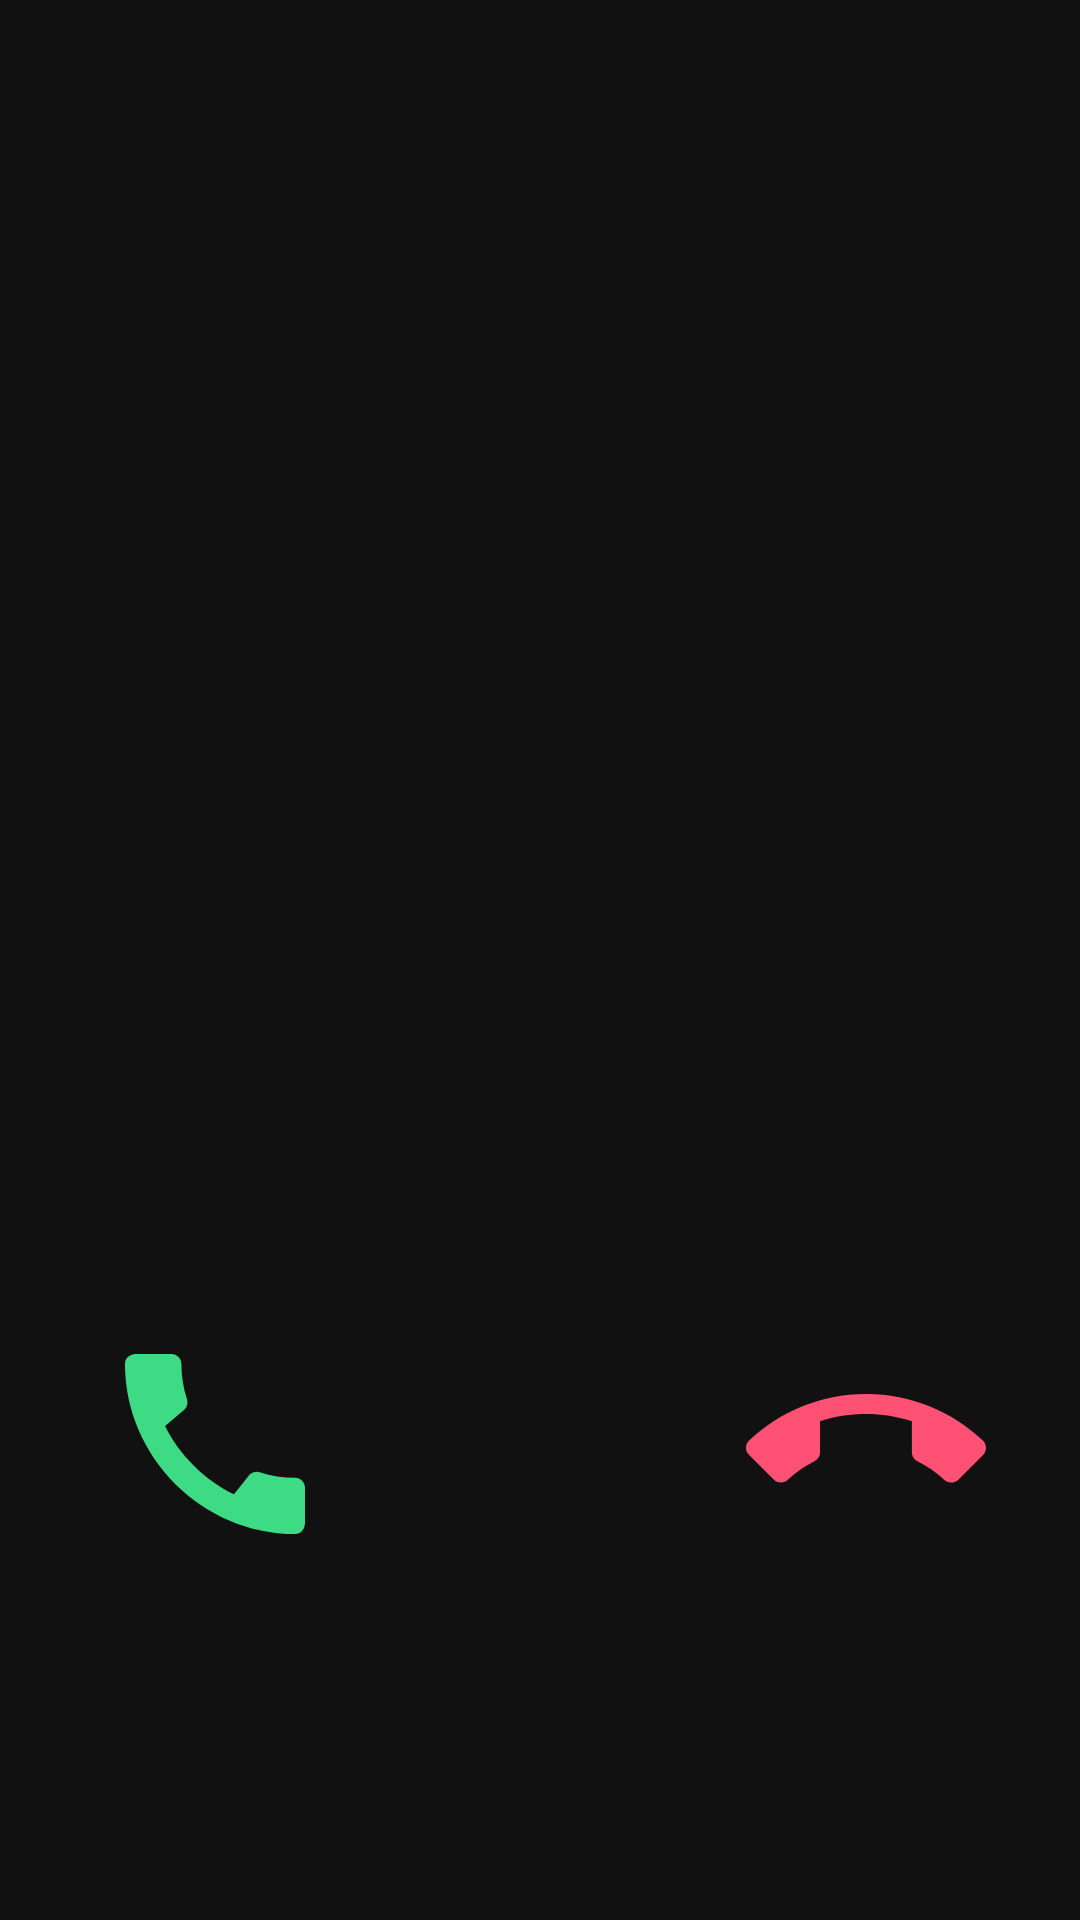

Icons on this 1080 × 1920 Android screen, each with the point to tap as (x,y):
call: (215,1444)
call end: (866,1438)
